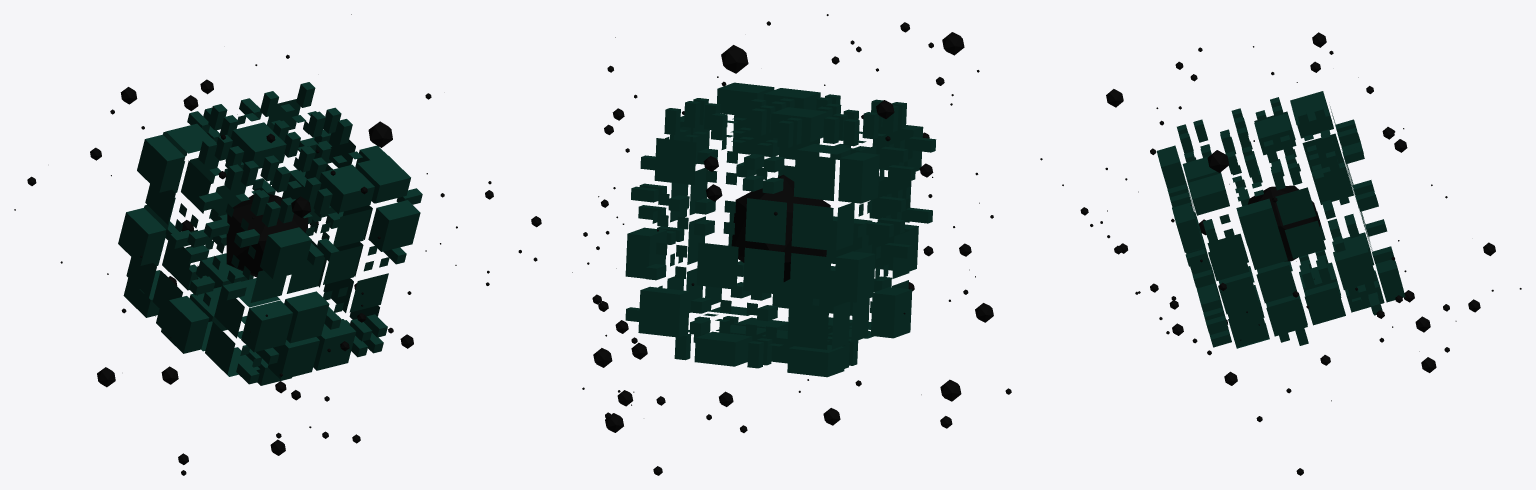
The model's file is Low_Poly_Planet_29.fbx.
3 views of the same model, side by side, from view 1: azimuth 30°, elevation 25°; view 2: azimuth 150°, elevation 25°; view 3: azimuth 270°, elevation 25° (orthographic). The views are drawn at different scales.
Visible parts, largest first — view 1: Planet_29; view 2: Planet_29; view 3: Planet_29.
Part boxes in pixels (x1,y1,x2,y2): Planet_29: (14, 14, 541, 475); Planet_29: (572, 14, 1011, 475); Planet_29: (1040, 32, 1521, 475).
Bounding box in the file's own units: 497 × 506 × 589.
